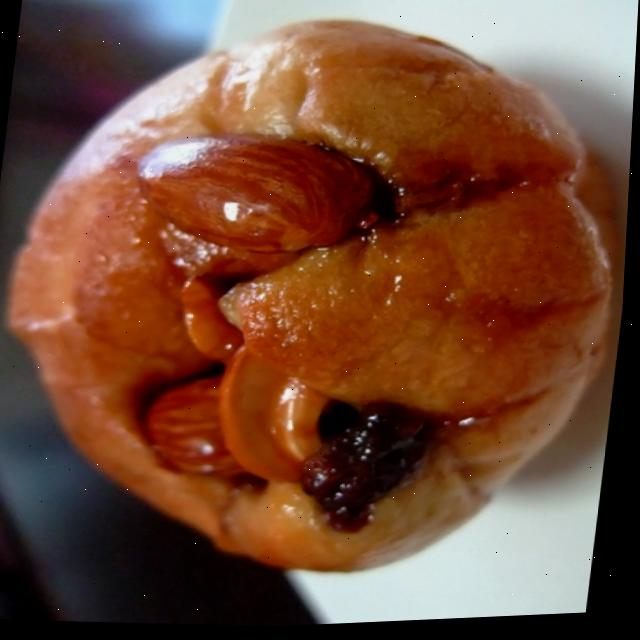炸货点心: (0, 0, 640, 615)
面包点心: (0, 0, 640, 615)
